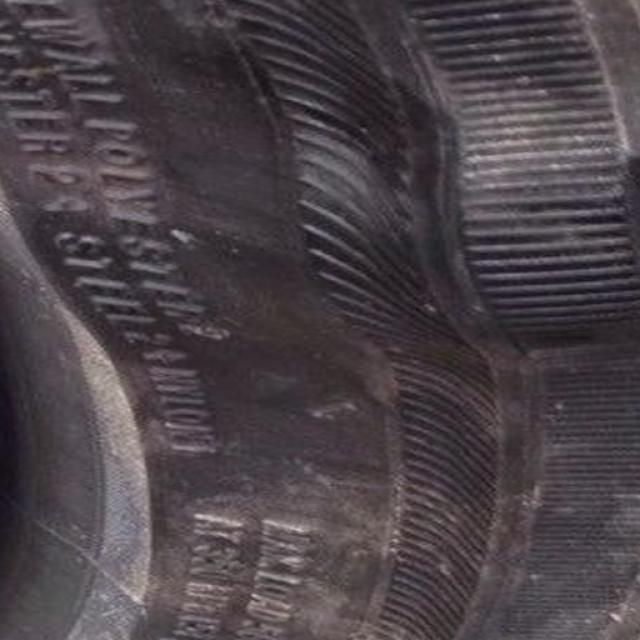Bulge: (206, 41, 640, 388)
